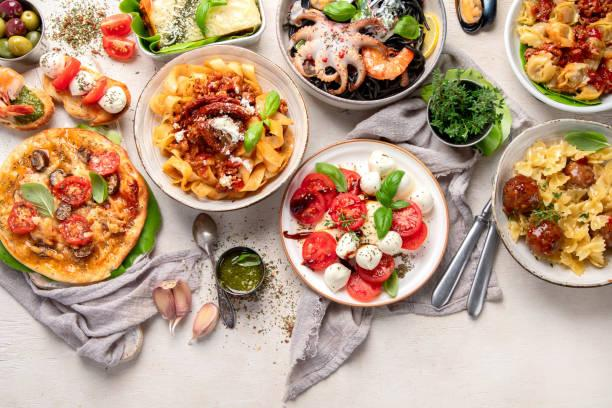Braised Crucian Carp: (132, 44, 304, 212), (278, 137, 446, 306), (4, 127, 154, 283), (491, 118, 611, 285), (275, 0, 440, 110), (504, 1, 609, 112)
